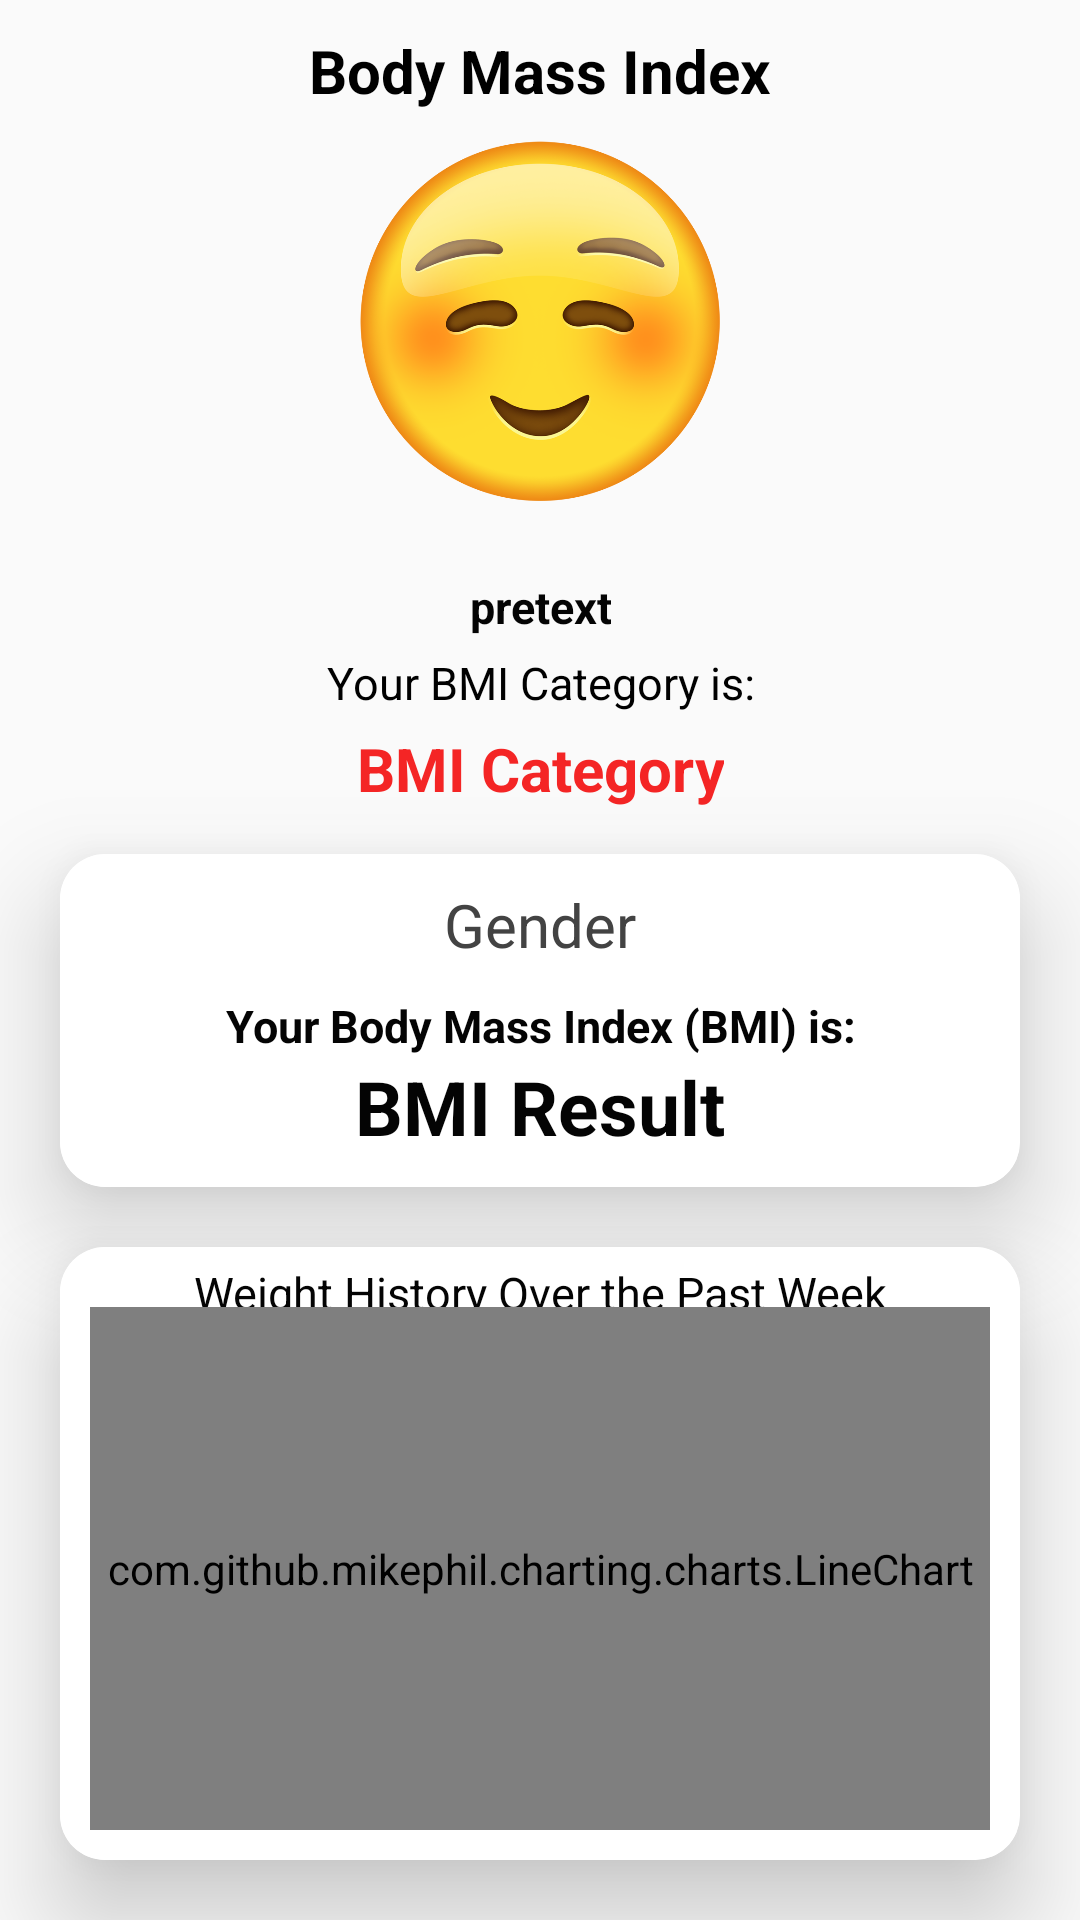

Icons on this 1080×1920 Android screen, each with its box as (x1, y1, x2, y2):
emoji: (360, 141, 720, 501)
